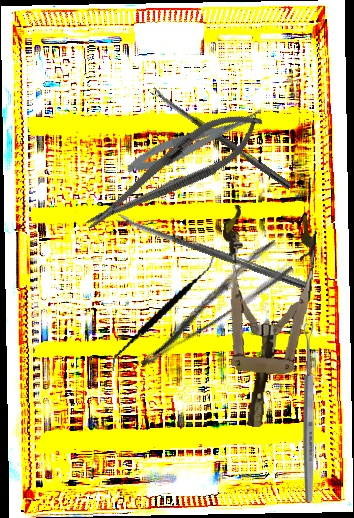Dressing Forceps: (123, 238, 296, 371)
Micro Scissor: (122, 104, 268, 180)
Needle Holder: (73, 95, 273, 247)
Spatula Surgical: (110, 238, 216, 388)
Speculum: (206, 204, 319, 431)
Surgical Spoon: (115, 212, 310, 291), (149, 86, 294, 190), (303, 323, 315, 502)
